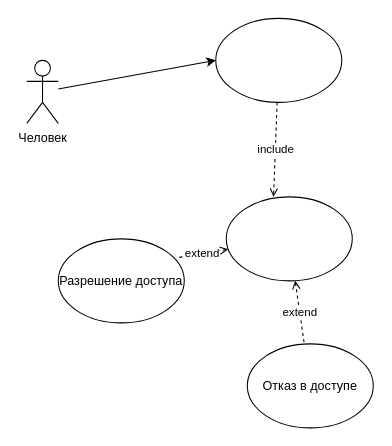
This 392x446 diagram has some shape labels left out. Here are the shapes that lost their labels. From the top down, the centre of each, then its label:
[278,59]: Проход через турникет
[288,238]: Проверка пропуска
